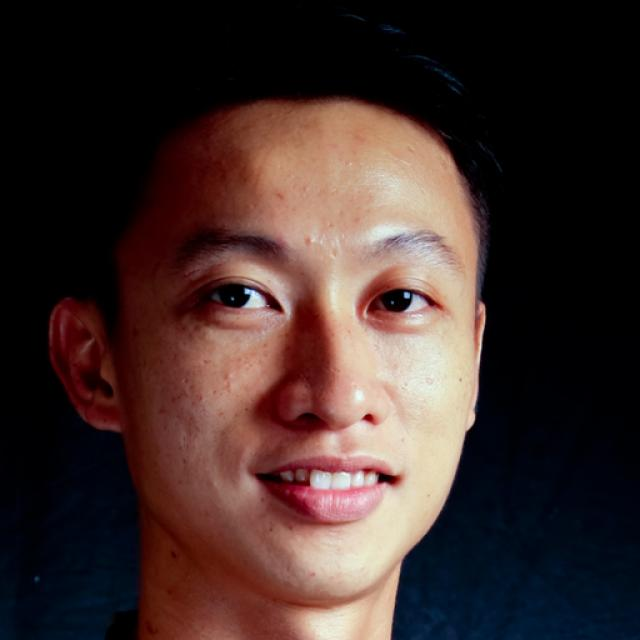Acne: (296, 226, 327, 261), (208, 361, 242, 390), (414, 368, 445, 393), (335, 149, 355, 179)
Spots: (206, 402, 237, 426), (281, 515, 299, 538), (263, 521, 280, 540), (307, 563, 325, 580)
